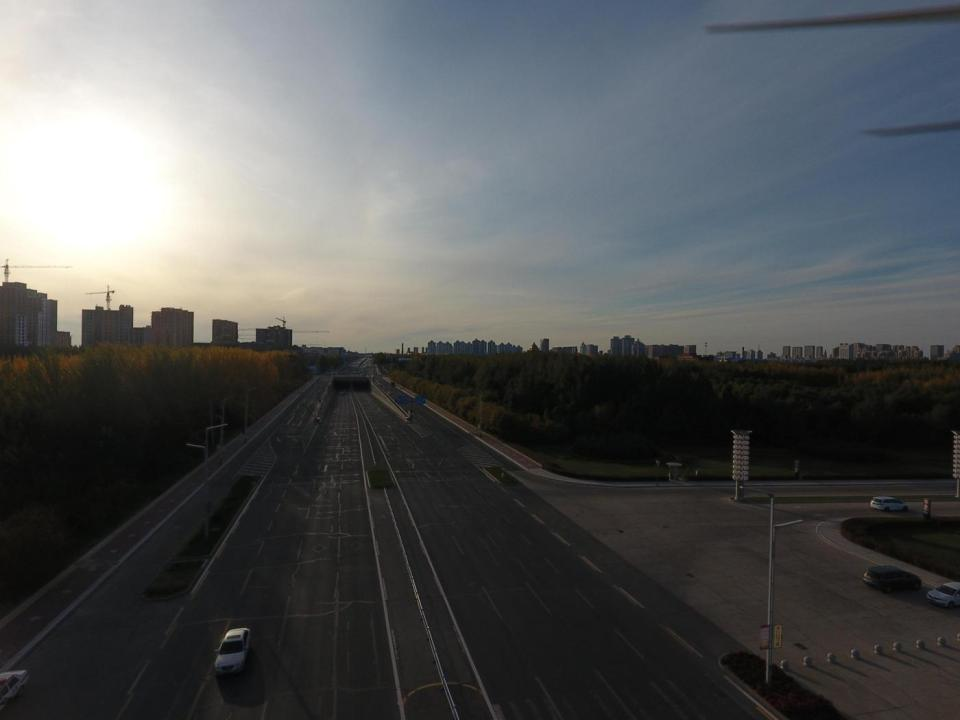car: (214, 626, 251, 677), (864, 566, 922, 592), (0, 667, 31, 713), (926, 582, 960, 608), (869, 496, 910, 511)
